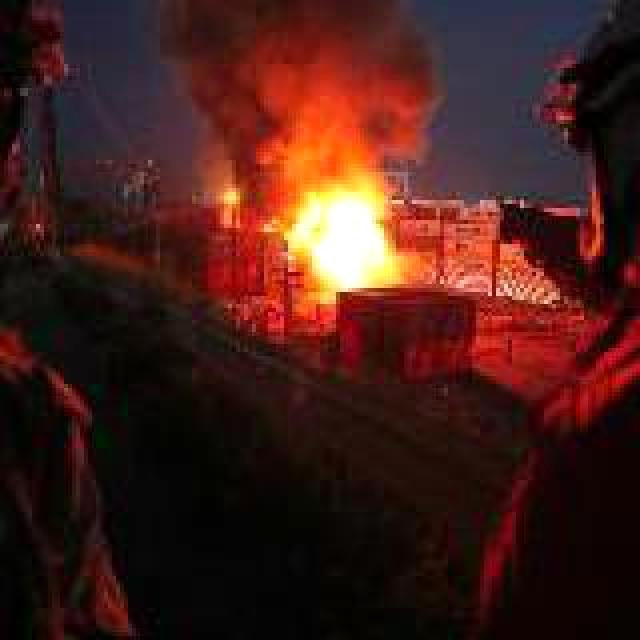smoke: (106, 0, 442, 188)
